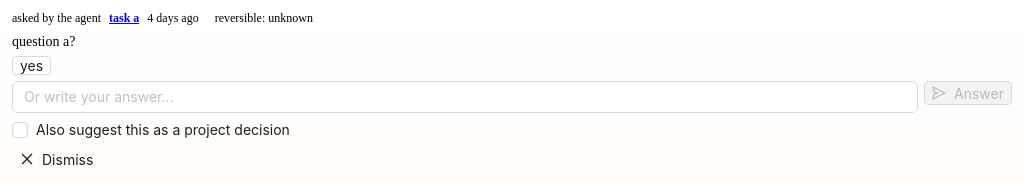
Test: suggestion outcome survives the card › shows the skipped warning after the parent removes the answered card
Click the button with test id "question-option" at (32, 66), box [12, 56, 51, 75]
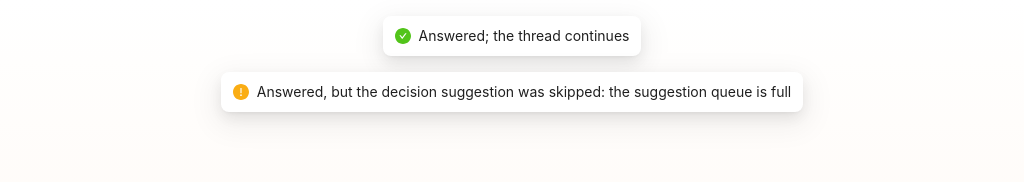
Result: the element with test id "question-a" is gone
Result: the text "the decision suggestion was skipped: the suggestion queue is full" is shown at [257, 83, 791, 100]
